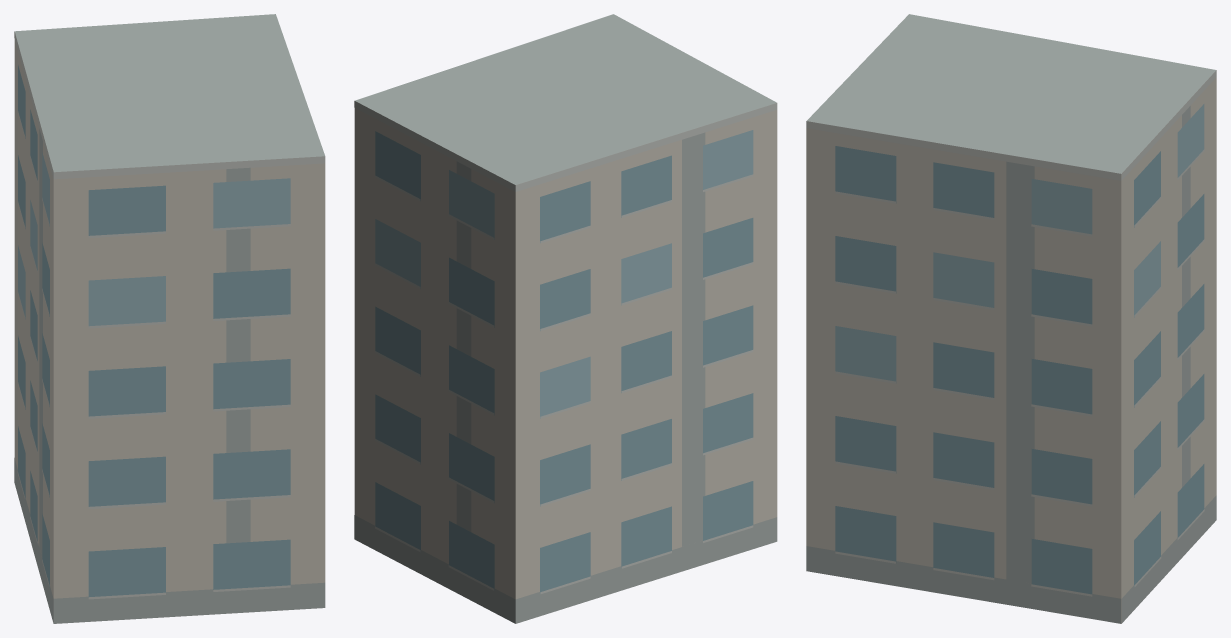
The model's file is survey-upis-32506529.glb.
3 renders of one model, left to right at view 1: azimuth 30°, elevation 25°; view 2: azimuth 150°, elevation 25°; view 3: azimuth 270°, elevation 25°, orthographic. The views are drawn at different scales.
Visible parts, largest first — view 1: survey-upis-32506529.tmp; view 2: survey-upis-32506529.tmp; view 3: survey-upis-32506529.tmp.
Part boxes in pixels (<box>): survey-upis-32506529.tmp: <box>14,14,325,623</box>; survey-upis-32506529.tmp: <box>354,14,777,623</box>; survey-upis-32506529.tmp: <box>806,14,1216,623</box>.
Bounding box in the file's own units: 11.82 × 15.5 × 12.81.
